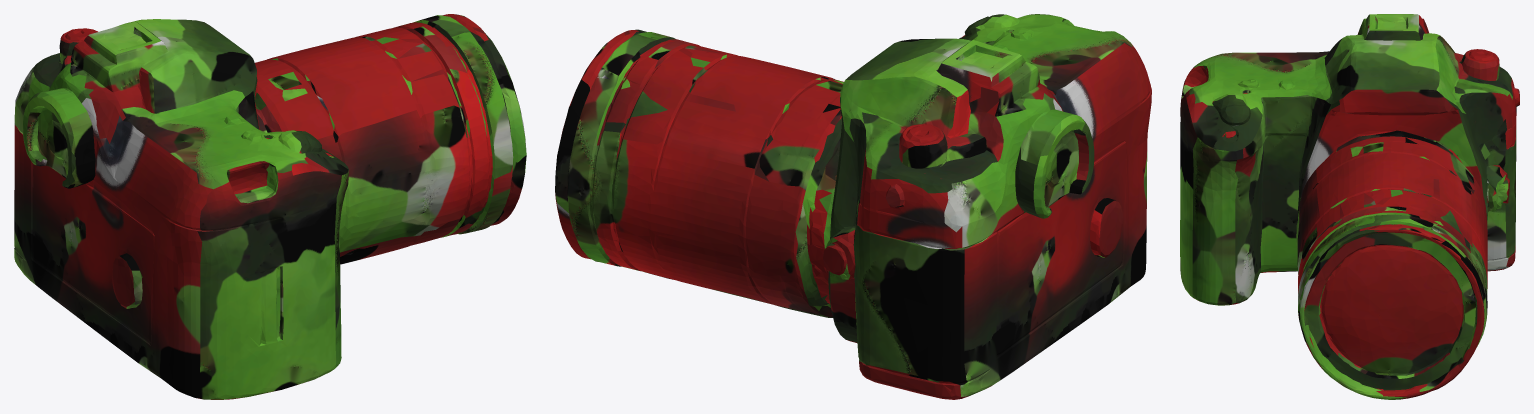
The model's file is sample.obj.
3 renders of one model, left to right at view 1: azimuth 30°, elevation 25°; view 2: azimuth 150°, elevation 25°; view 3: azimuth 270°, elevation 25°, orthographic. The views are drawn at different scales.
Bounding box in the file's own units: 0.2204 × 0.135 × 0.1742.
